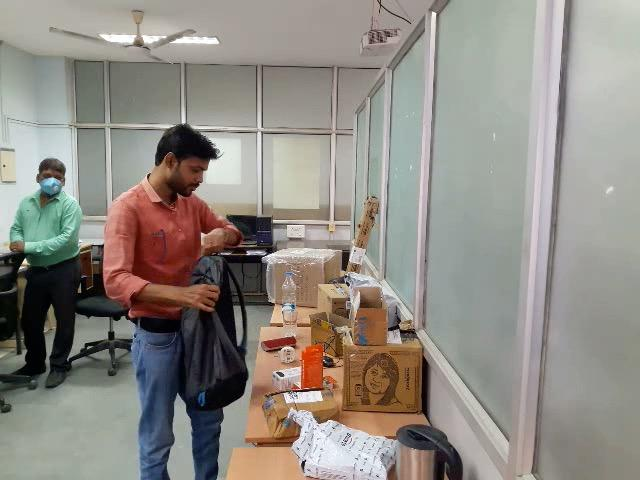shoplifting: (54, 203, 336, 421)
